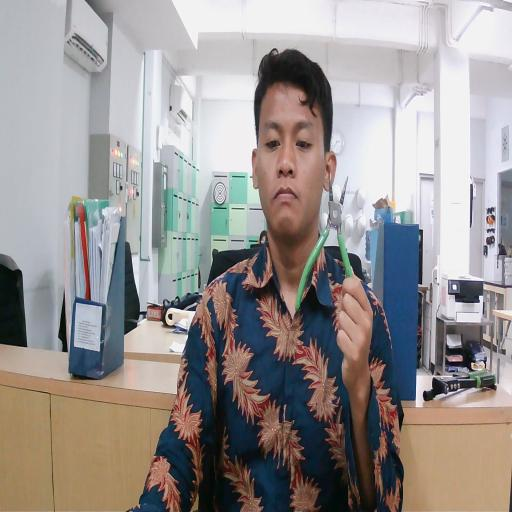tang_scun_hidrolik: (289, 164, 369, 323)
